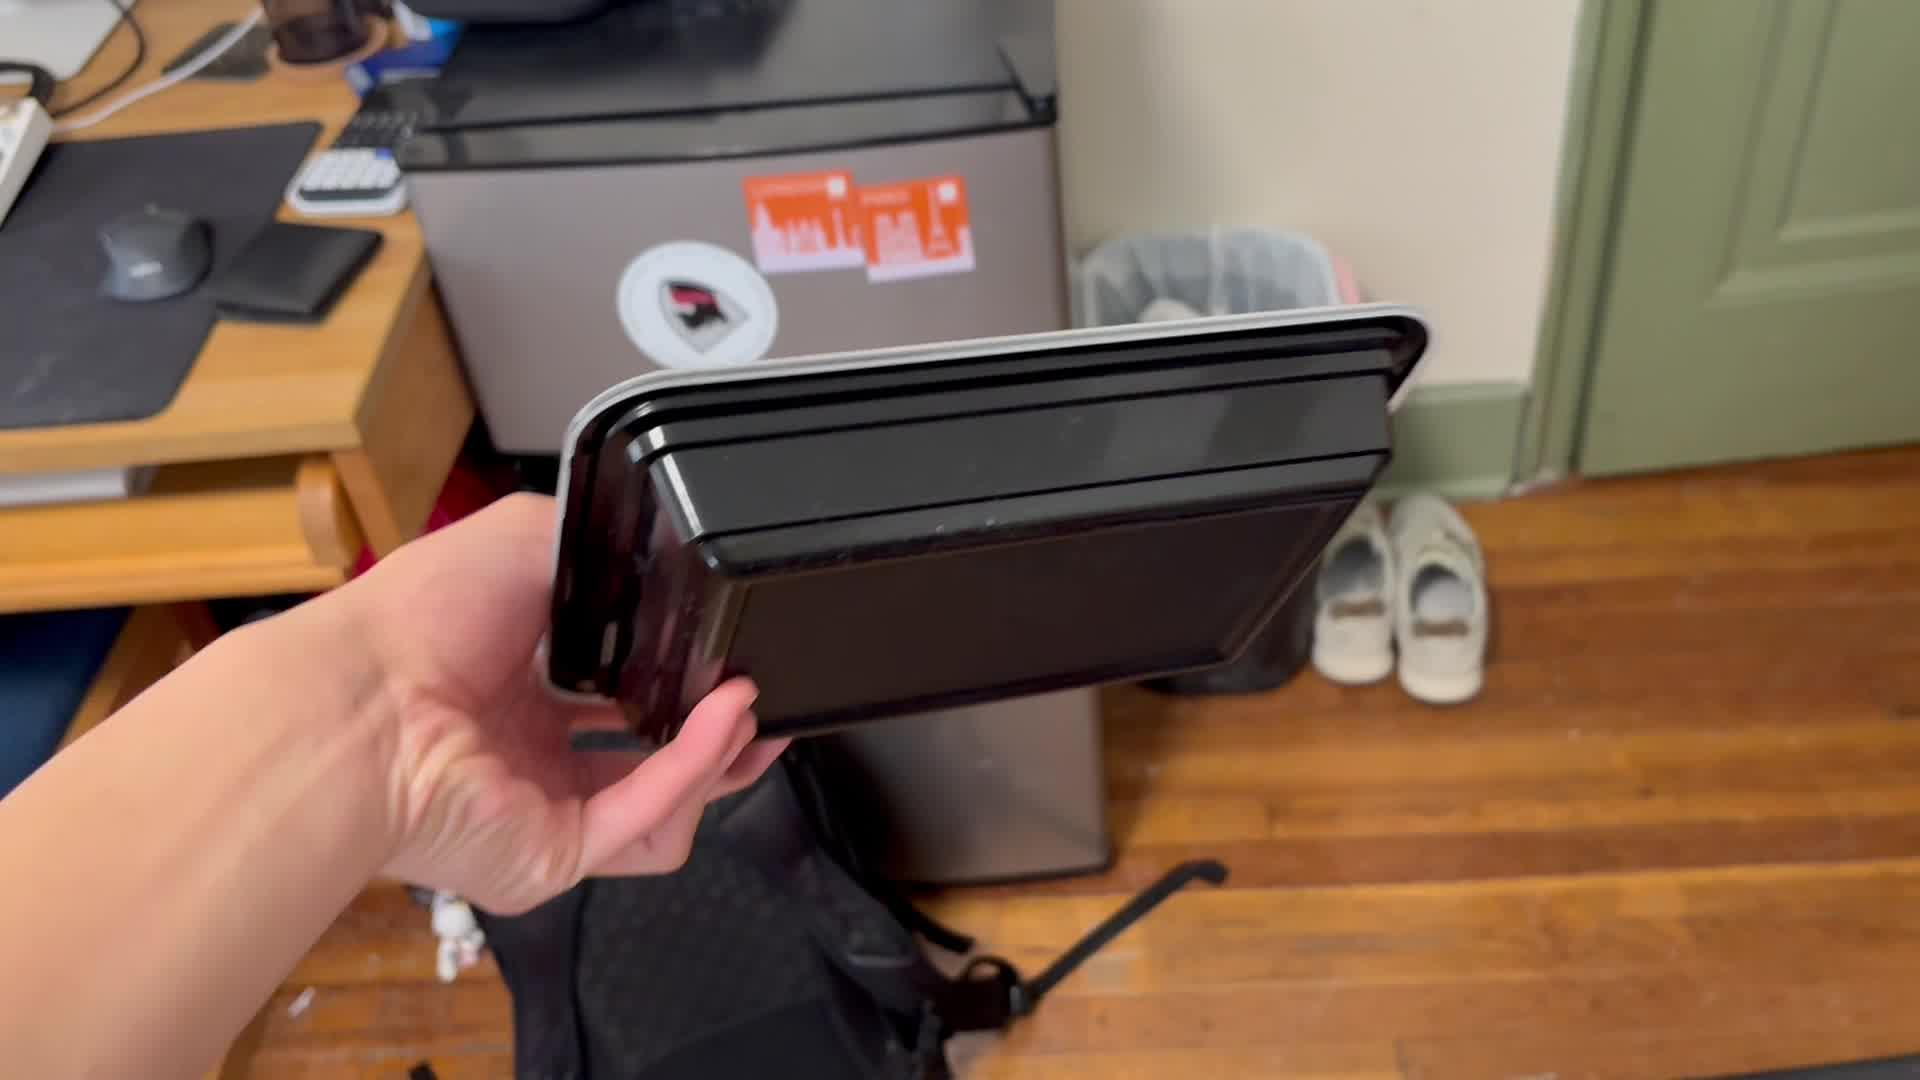lp_cup_lids: (543, 304, 1437, 745)
